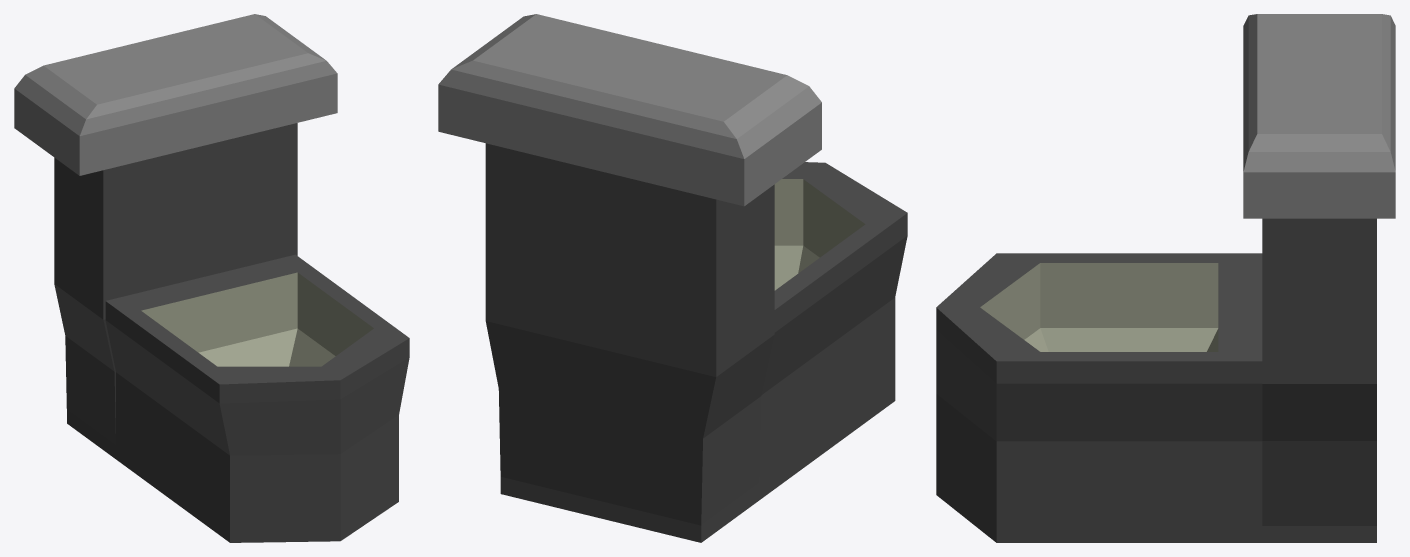
File: toillette.fbx
3 renders of one model, left to right at view 1: azimuth 30°, elevation 25°; view 2: azimuth 150°, elevation 25°; view 3: azimuth 270°, elevation 25°, orthographic. The views are drawn at different scales.
Visible parts, largest first — view 1: Cube.489; view 2: Cube.489; view 3: Cube.489.
Boxes of the visible parts, x1,y1,x2,y2 form: Cube.489: (14, 14, 409, 542); Cube.489: (438, 14, 907, 542); Cube.489: (936, 14, 1395, 542).
Size of the model in its own units: 103 by 139 by 137.
